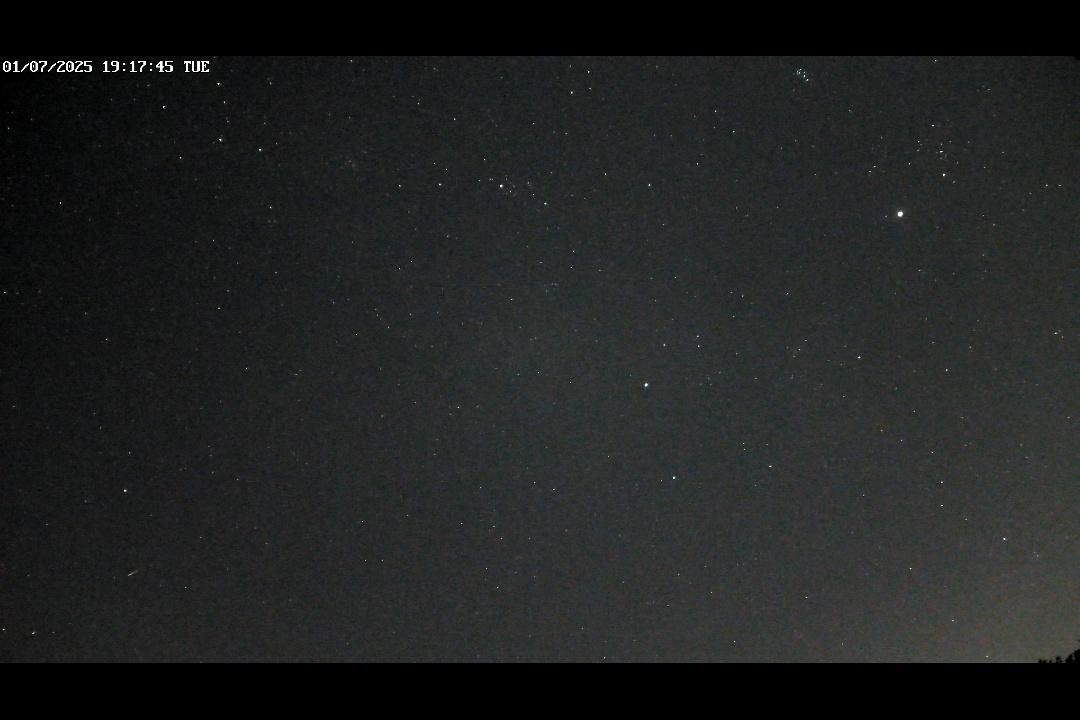meteorite: (121, 564, 146, 582)
